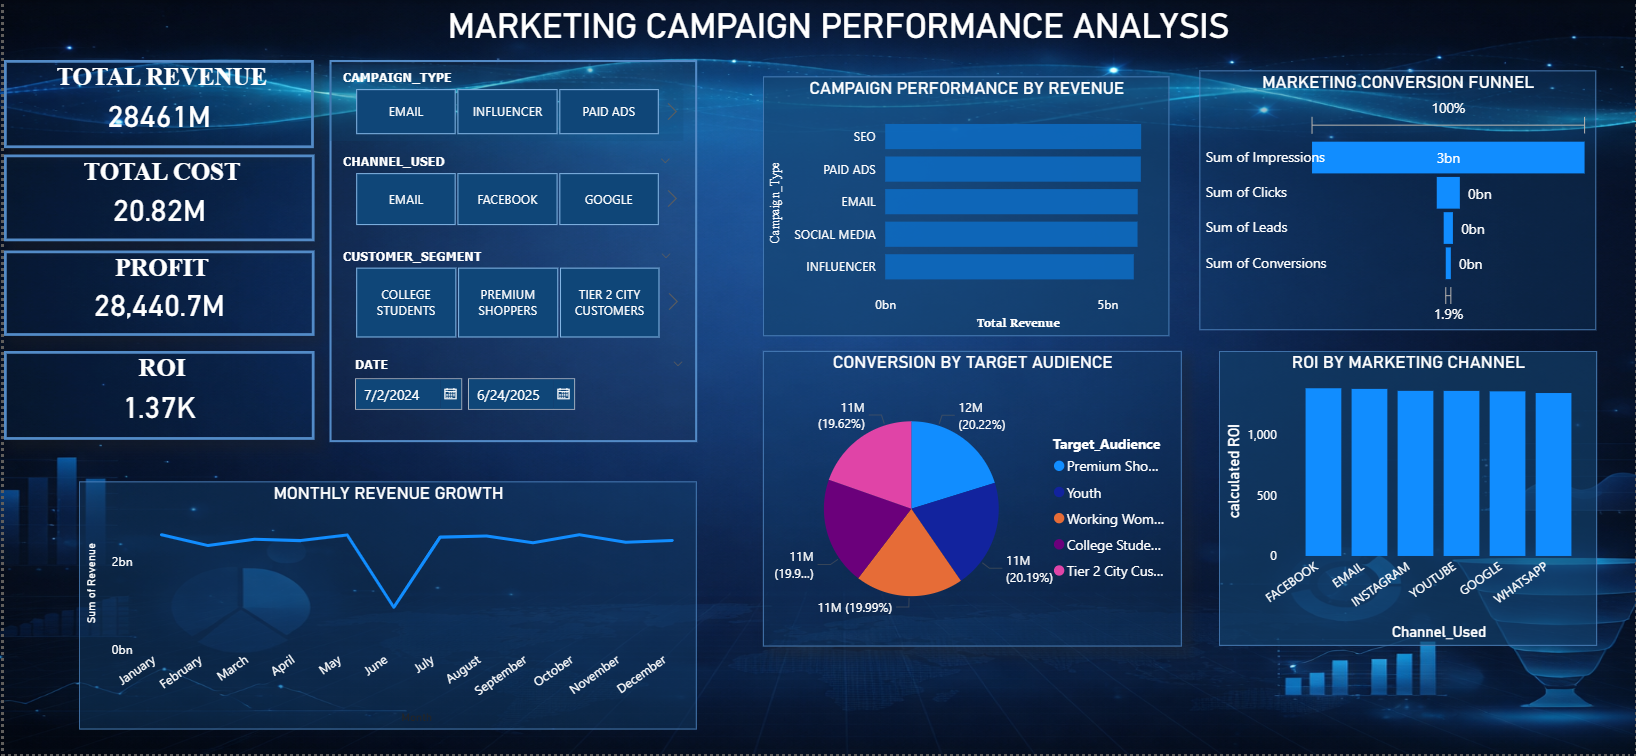

What the dashboard file says about the page in this screenshot:
{"tool":"powerbi","page":{"name":"Page 1","canvas":[1580,730],"ordinal":0},"visuals":[{"type":"textbox","box":[401.6,0,811.2,50],"z":0},{"type":"card","title":"TOTAL REVENUE","fields":{"Values":["marketing_campaign_predictions.Total Revenue"]},"box":[0,58.1,300,85.5],"z":1000},{"type":"card","title":"TOTAL COST","fields":{"Values":["marketing_campaign_predictions.total cost"]},"box":[0,149.6,300.6,84.2],"z":2000},{"type":"card","title":"PROFIT","fields":{"Values":["marketing_campaign_predictions.profit"]},"box":[0,242.5,300.6,82.8],"z":3000},{"type":"card","title":"ROI","fields":{"Values":["marketing_campaign_predictions.calculated ROI"]},"box":[0,339.8,300.6,85.7],"z":4000},{"type":"barChart","title":"CAMPAIGN PERFORMANCE BY REVENUE","fields":{"Y":["marketing_campaign_predictions.Total Revenue"],"Category":["marketing_campaign_predictions.Campaign_Type"]},"box":[735.4,74.2,393.5,251.6],"z":5000},{"type":"clusteredColumnChart","title":"ROI BY MARKETING CHANNEL","fields":{"Category":["marketing_campaign_predictions.Channel_Used"],"Y":["marketing_campaign_predictions.calculated ROI"]},"box":[1175.7,340.3,366.1,285.4],"z":6000},{"type":"pieChart","title":"CONVERSION BY TARGET AUDIENCE","fields":{"Category":["marketing_campaign_predictions.Target_Audience"],"Y":["Sum(marketing_campaign_predictions.Conversions)"]},"box":[734.9,339.8,405.2,286.1],"z":7000},{"type":"funnel","title":"MARKETING CONVERSION FUNNEL","fields":{"Y":["Sum(marketing_campaign_predictions.Impressions)","Sum(marketing_campaign_predictions.Clicks)","Sum(marketing_campaign_predictions.Leads)","Sum(marketing_campaign_predictions.Conversions)"]},"box":[1157.9,67.7,383.8,251.6],"z":8000},{"type":"textbox","box":[315.1,58.1,355.8,370.3],"z":9000},{"type":"slicer","fields":{"Values":["marketing_campaign_predictions.Campaign_Type"]},"box":[315.1,62.4,342.7,74.1],"z":10000},{"type":"slicer","fields":{"Values":["marketing_campaign_predictions.Channel_Used"]},"box":[315.1,143.8,342.7,81.3],"z":11000},{"type":"slicer","fields":{"Values":["marketing_campaign_predictions.Customer_Segment"]},"box":[314.5,235.5,343.5,98.4],"z":12000},{"type":"slicer","fields":{"Values":["marketing_campaign_predictions.Date"]},"box":[327.4,340.3,343.5,85.5],"z":13000},{"type":"lineChart","title":"MONTHLY REVENUE GROWTH","fields":{"Y":["Sum(marketing_campaign_predictions.Revenue)"],"Category":["marketing_campaign_predictions.Date.Variation.Date Hierarchy.Month"]},"box":[72.6,466.1,598.3,240.3],"z":14000}]}

Visuals, with their boxes in screenshot pixels (x1, y1, x2, y2), scaled from the page's 1580x730 canvas onto the 1636x756 screenshot:
textbox: x1=416, y1=0, x2=1256, y2=52
"TOTAL REVENUE" card: x1=0, y1=60, x2=311, y2=149
"TOTAL COST" card: x1=0, y1=155, x2=311, y2=242
"PROFIT" card: x1=0, y1=251, x2=311, y2=337
"ROI" card: x1=0, y1=352, x2=311, y2=441
"CAMPAIGN PERFORMANCE BY REVENUE" barChart: x1=761, y1=77, x2=1169, y2=337
"ROI BY MARKETING CHANNEL" clusteredColumnChart: x1=1217, y1=352, x2=1596, y2=648
"CONVERSION BY TARGET AUDIENCE" pieChart: x1=761, y1=352, x2=1181, y2=648
"MARKETING CONVERSION FUNNEL" funnel: x1=1199, y1=70, x2=1596, y2=331
textbox: x1=326, y1=60, x2=695, y2=444
slicer - marketing_campaign_predictions.Campaign_Type: x1=326, y1=65, x2=681, y2=141
slicer - marketing_campaign_predictions.Channel_Used: x1=326, y1=149, x2=681, y2=233
slicer - marketing_campaign_predictions.Customer_Segment: x1=326, y1=244, x2=681, y2=346
slicer - marketing_campaign_predictions.Date: x1=339, y1=352, x2=695, y2=441
"MONTHLY REVENUE GROWTH" lineChart: x1=75, y1=483, x2=695, y2=732
